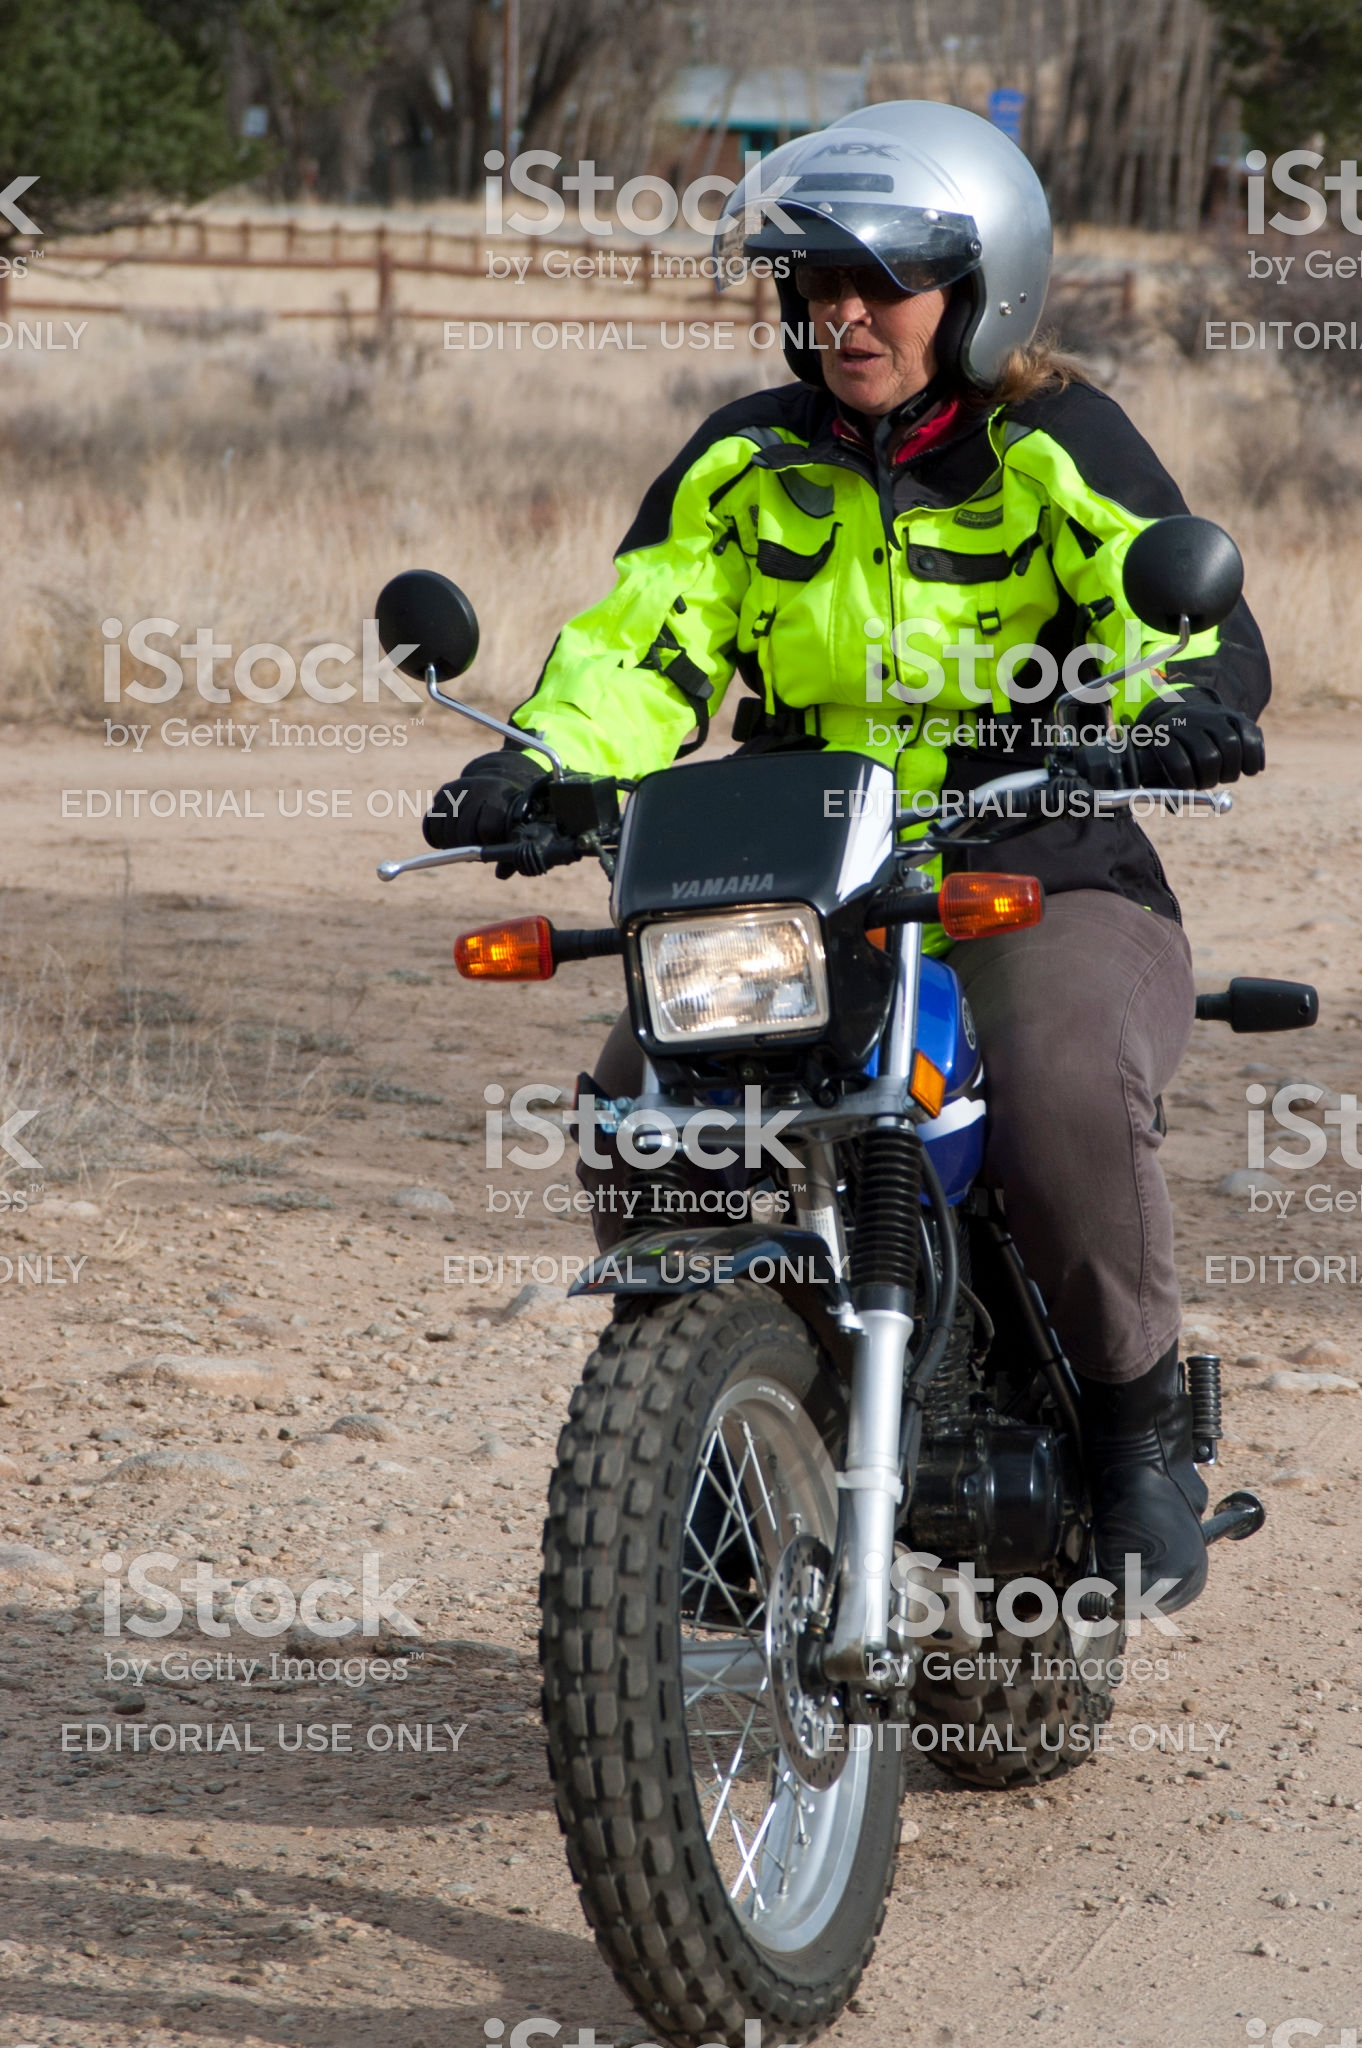helmet: (733, 97, 1096, 372)
